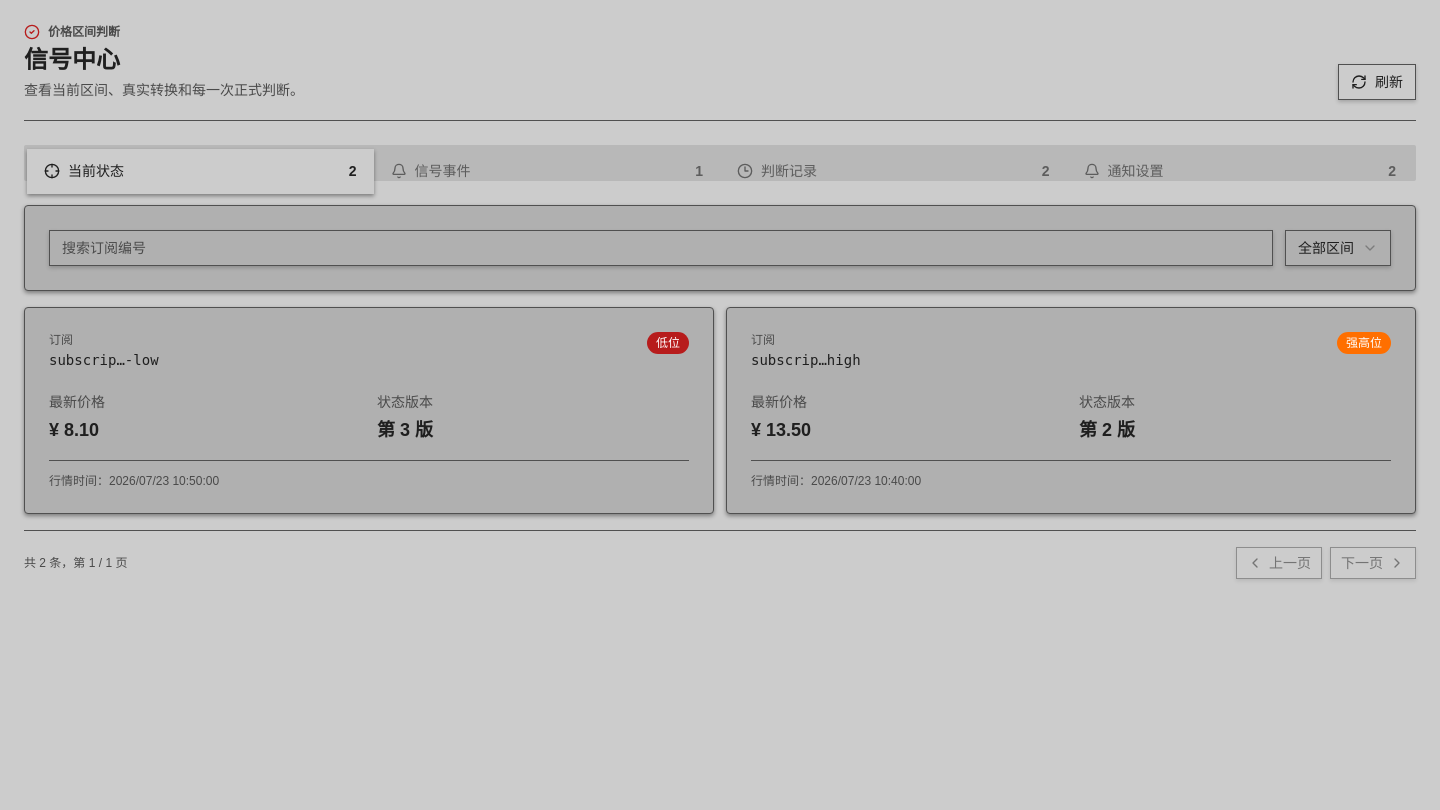
Test: 信号中心页面 › 判断记录包含同区间、跳过信息和过期结果
Expected: the text "¥ 8.10" is shown, [49,420,99,440]
Click the tab "判断记录 2". click: (789,171)
box: [720,148,1066,194]
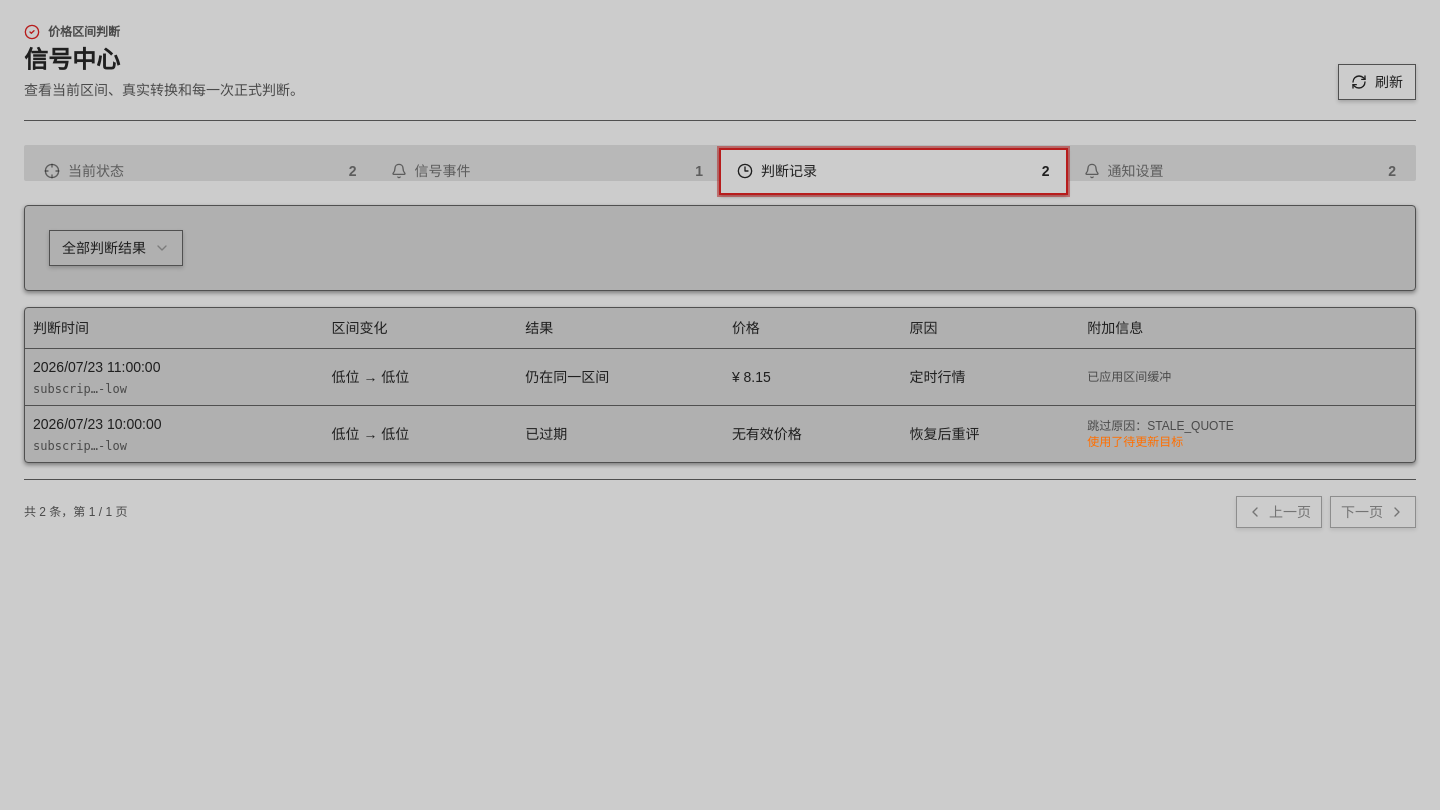
Result: the text "仍在同一区间" is shown at [517,348,724,405]
Result: the text "已过期" is shown at [517,405,724,462]
Result: the text "跳过原因：STALE_QUOTE" is shown at [1087,418,1234,432]
Click the dropdown named "按判断结果筛选". click: (116,248)
box: [49,230,183,266]
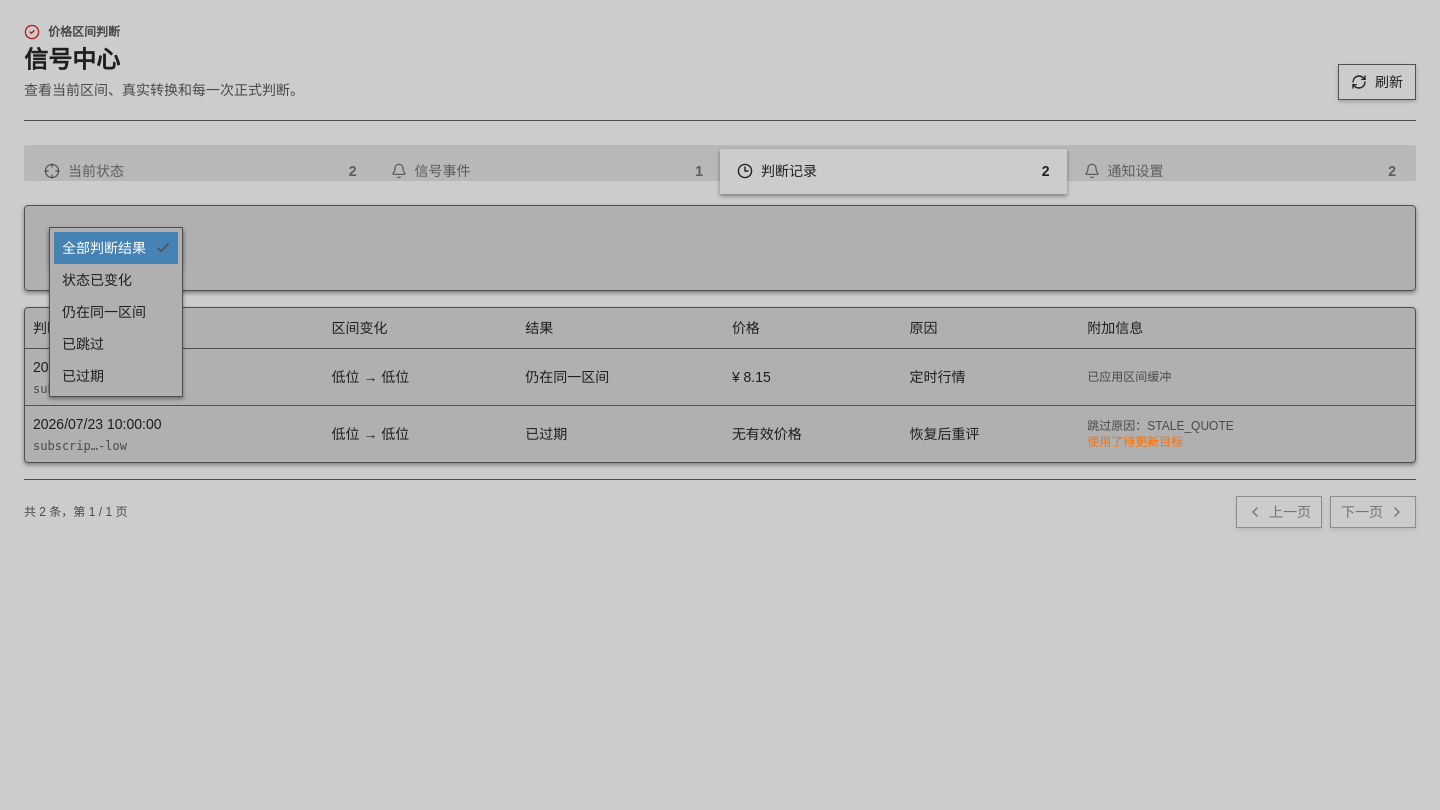
Click the option "已过期". click: (83,376)
box: [62,368,104,384]
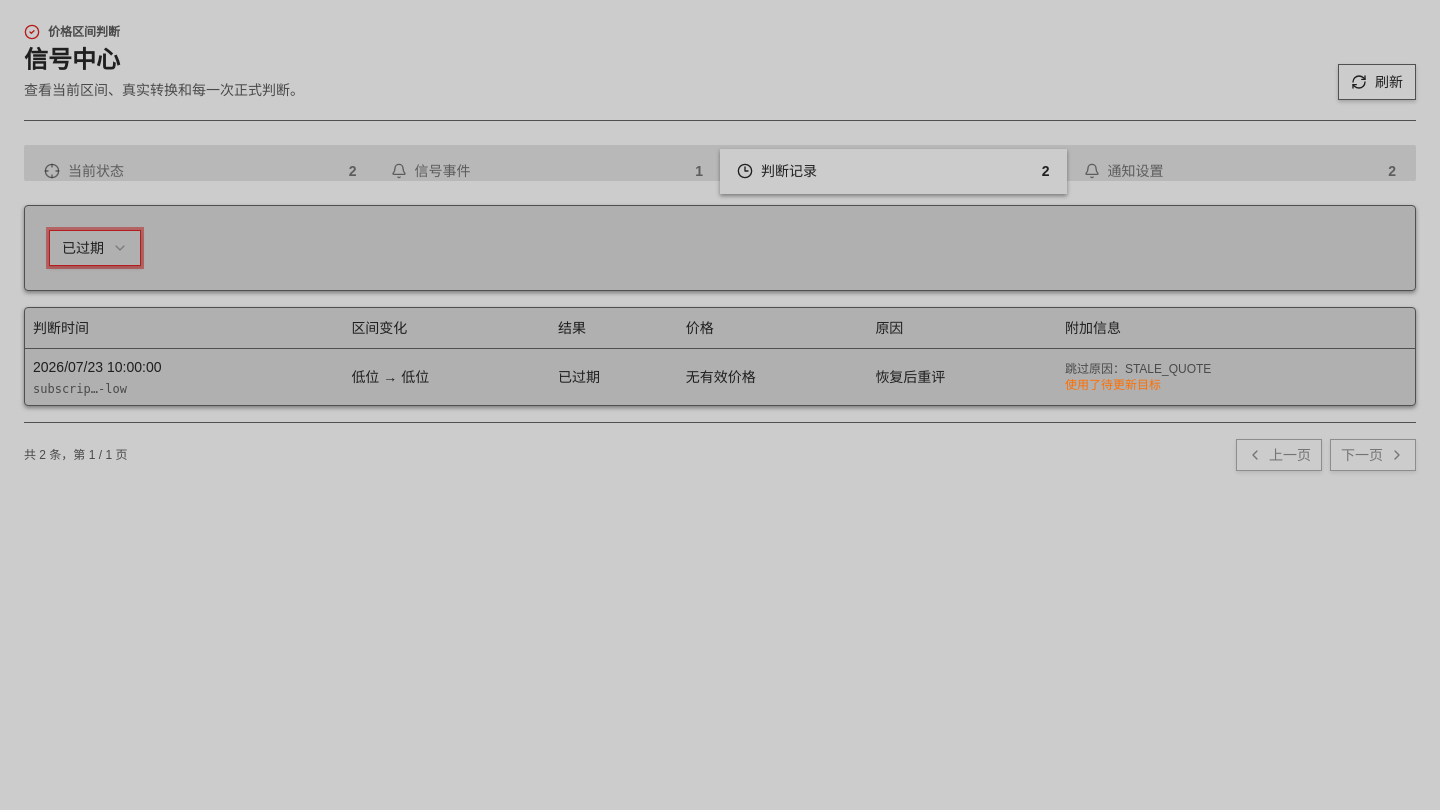
Result: the text "仍在同一区间" is gone
Result: the text "已过期" is shown 2 times at [62,238,104,258]; [550,348,678,404]
